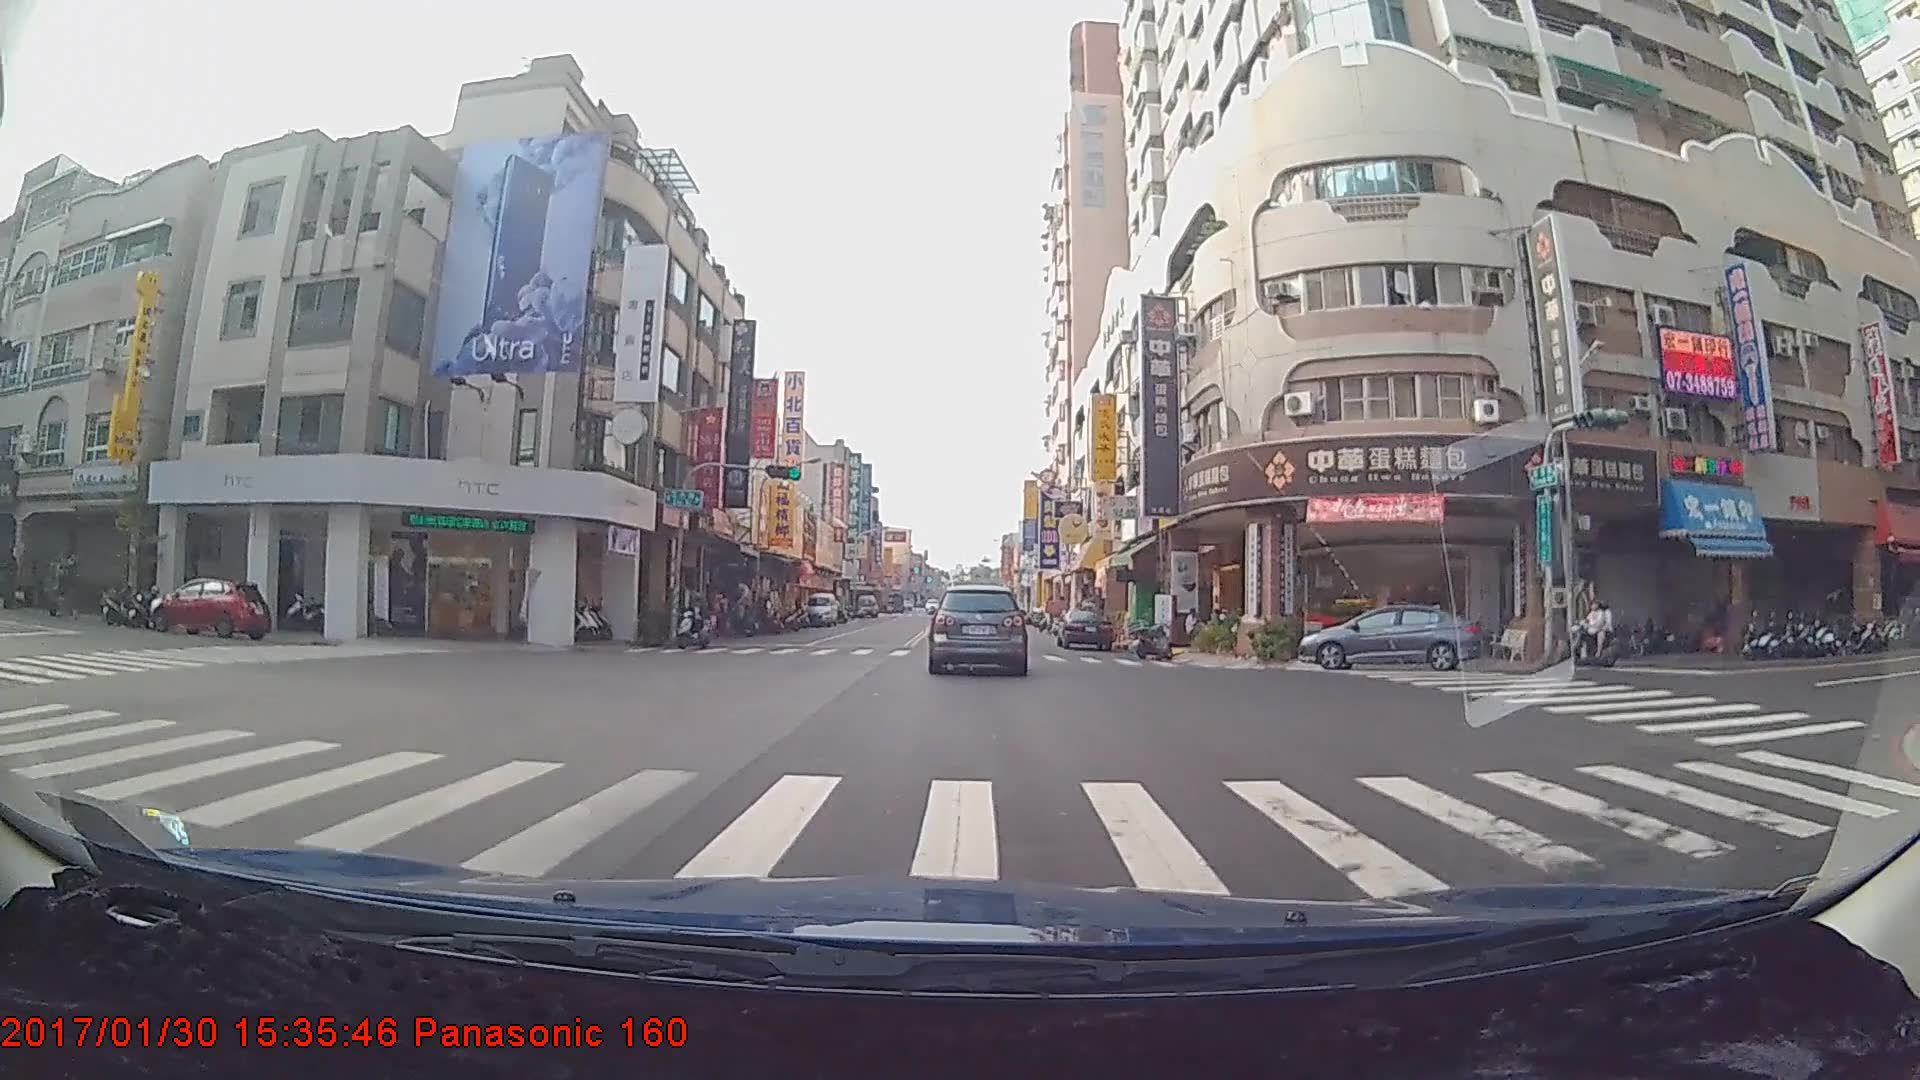rider: (1568, 593, 1628, 661), (674, 583, 716, 645)
vehicle: (1297, 599, 1477, 665), (929, 584, 1026, 675), (152, 575, 272, 641), (1055, 601, 1112, 647), (801, 589, 839, 623), (854, 590, 878, 615)
